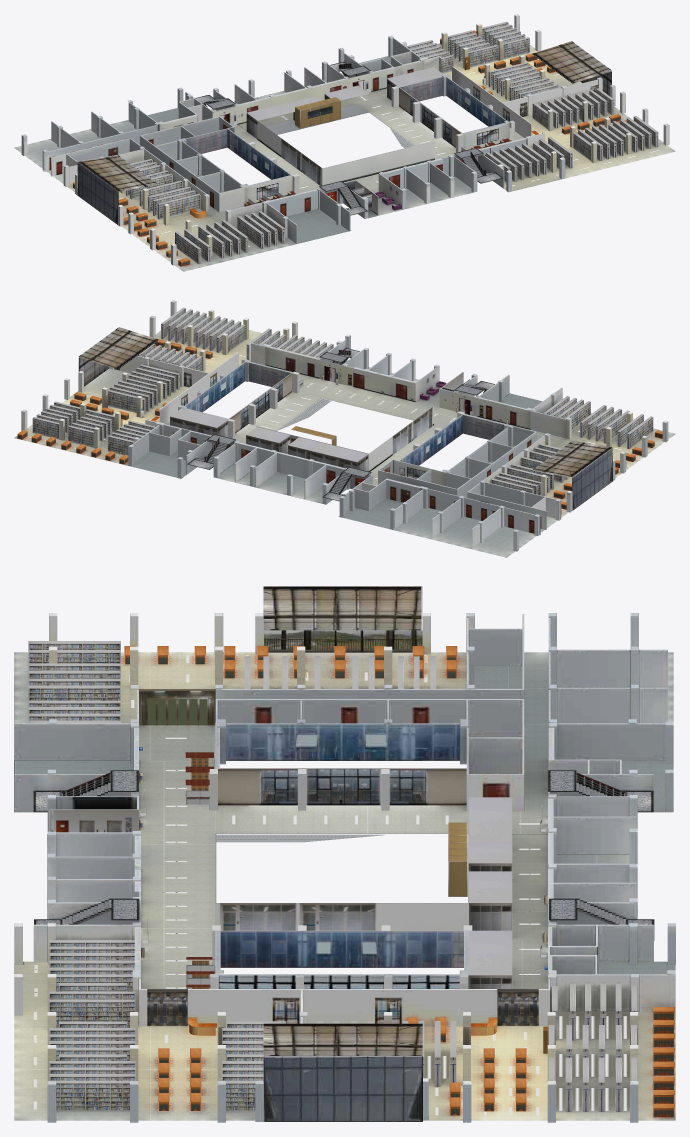
File: 5F_main.gltf
3 views of the same model, one above another, from view 1: azimuth 30°, elevation 25°; view 2: azimuth 150°, elevation 25°; view 3: azimuth 270°, elevation 25° (orthographic). The views are drawn at different scales.
Visible parts, largest first — view 1: 内墙01, Plane1217, 墙2, 柱子（基础）01, 5f两侧, 地面7（4F）, 报告厅上, 地面6（4F）, 地面2(样本), 地面8（报刊）, Plane1677, 对象001 (+10 smaller); view 2: 内墙01, Plane1217, 墙2, 柱子（基础）01, 5f两侧, 地面7（4F）, 地面6（4F）, 地面1(样本), Plane1677, 地面8（报刊）, 地面2(样本), 地面3（报刊） (+12 smaller); view 3: 内墙01, 5f两侧, 墙2, 地面7（4F）, Plane1677, 地面3（报刊）, 柱子（基础）01, 地面6（4F）, 地面2(样本), 地面8（报刊）, 报告厅上, 地面1(样本) (+18 smaller).
Part boxes in pixels (x1,y1,x2,y2): 内墙01: (51, 38, 544, 243); Plane1217: (159, 60, 526, 216); 墙2: (43, 66, 598, 191); 柱子（基础）01: (21, 14, 669, 265); 5f两侧: (77, 41, 611, 224); 地面7（4F）: (238, 91, 561, 243); 报告厅上: (257, 121, 434, 185); 地面6（4F）: (148, 56, 455, 192); 地面2(样本): (118, 174, 296, 271); 地面8（报刊）: (492, 77, 675, 178); Plane1677: (227, 87, 463, 179); 对象001: (378, 65, 449, 209); 内墙01: (131, 339, 566, 547); Plane1217: (163, 346, 530, 502); 墙2: (114, 352, 546, 534); 柱子（基础）01: (21, 300, 668, 551); 5f两侧: (78, 327, 612, 510); 地面7（4F）: (218, 367, 542, 503); 地面6（4F）: (132, 392, 443, 529); 地面1(样本): (393, 508, 568, 557); Plane1677: (228, 372, 463, 465); 地面8（报刊）: (84, 330, 261, 409); 地面2(样本): (469, 413, 675, 502); 地面3（报刊）: (14, 391, 169, 465); 内墙01: (14, 618, 675, 1026); 5f两侧: (263, 586, 422, 1121); 墙2: (188, 614, 550, 1026); 地面7（4F）: (14, 761, 637, 1011); Plane1677: (215, 768, 466, 967); 地面3（报刊）: (423, 1012, 675, 1120); 柱子（基础）01: (14, 613, 675, 1122); 地面6（4F）: (216, 761, 675, 989); 地面2(样本): (14, 652, 422, 760); 地面8（报刊）: (14, 1012, 255, 1120); 报告厅上: (215, 903, 468, 930); 地面1(样本): (422, 652, 673, 760).
Size of the model in its own units: 7.04 by 0.4568 by 4.17.
Materials: 46 (44 with a texture image).
